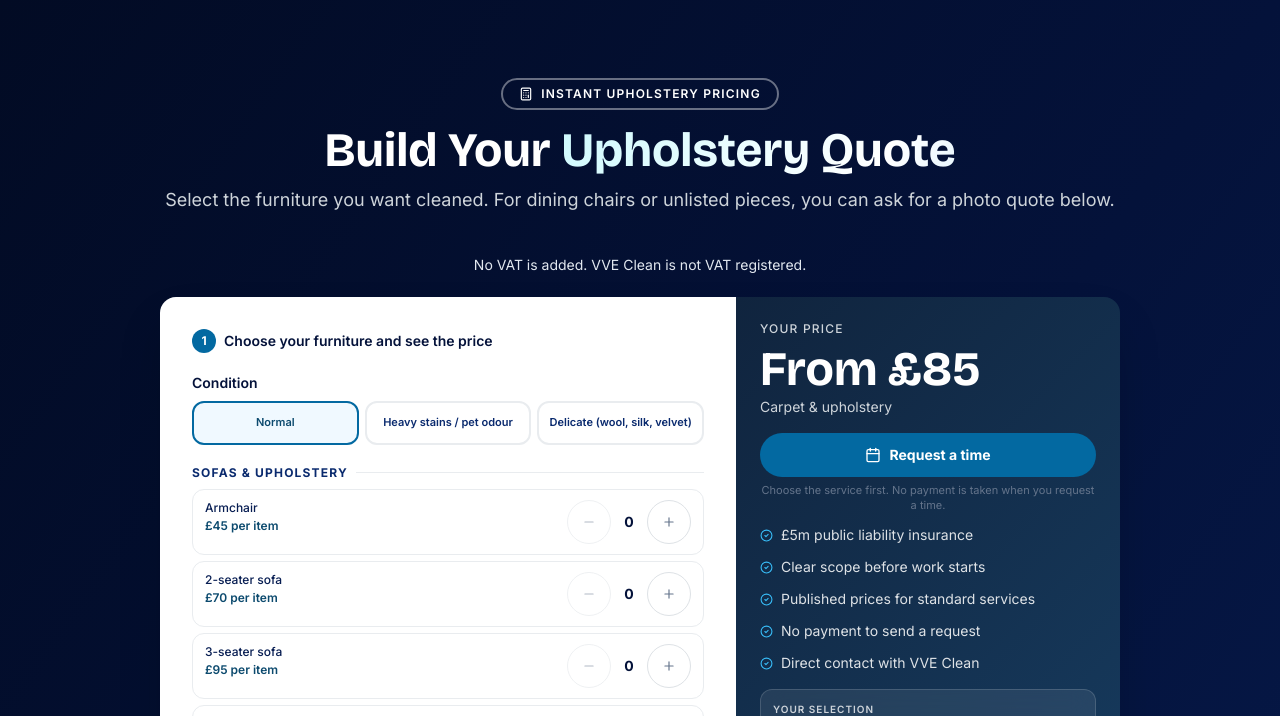
Trust beside the actual quote/request decision › shows upholstery proof once items are selected, immediately before its action
Later steps or results of the test are not shown.
Click the button named "Increase 2-seater sofa quantity": (669, 594) [647,572,691,616]
(page scrolled)
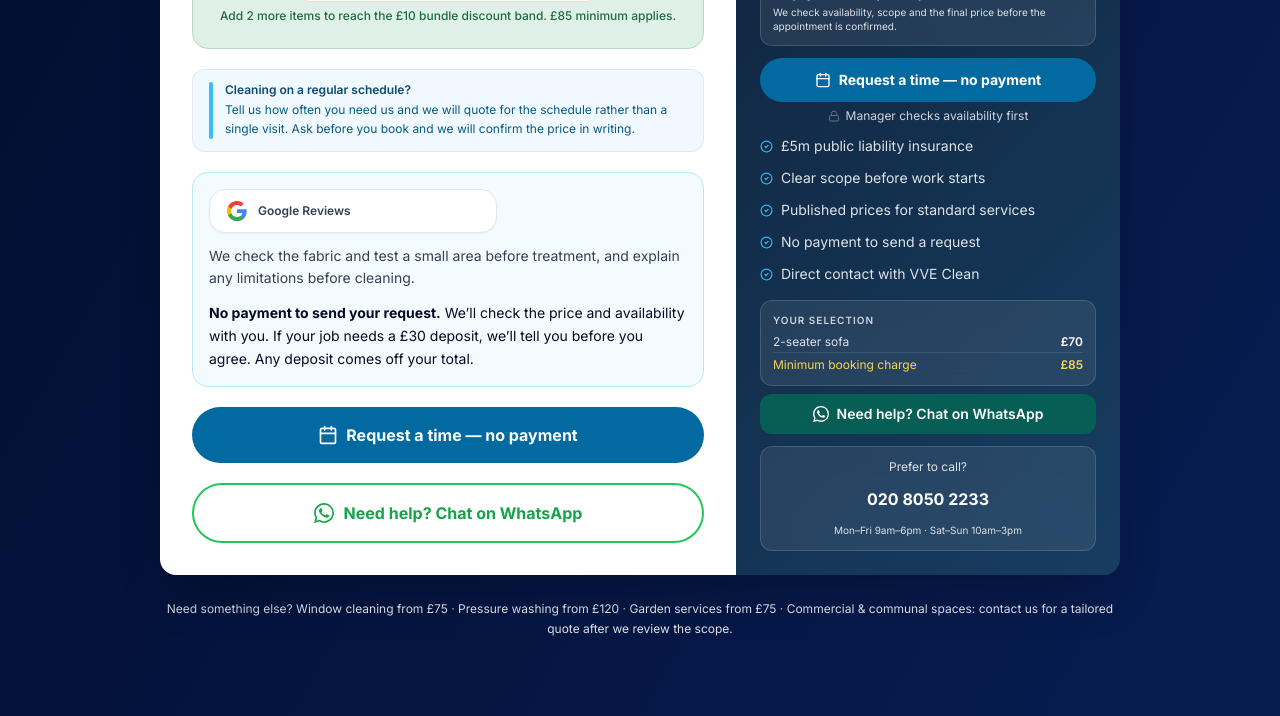
expect the element named "Before you send your request" shows "fabric and test a small area": met, box [209,246,680,286]
expect the button "Request a time — no payment" below "No payment to send your request." is shown: met, box [192,407,704,463]
